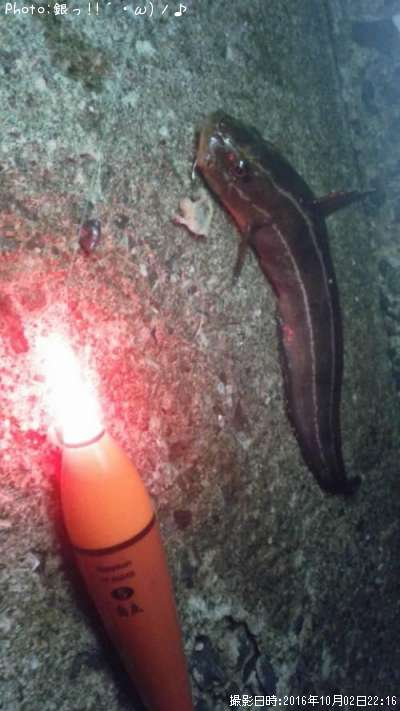gonzui: (186, 92, 400, 529)
